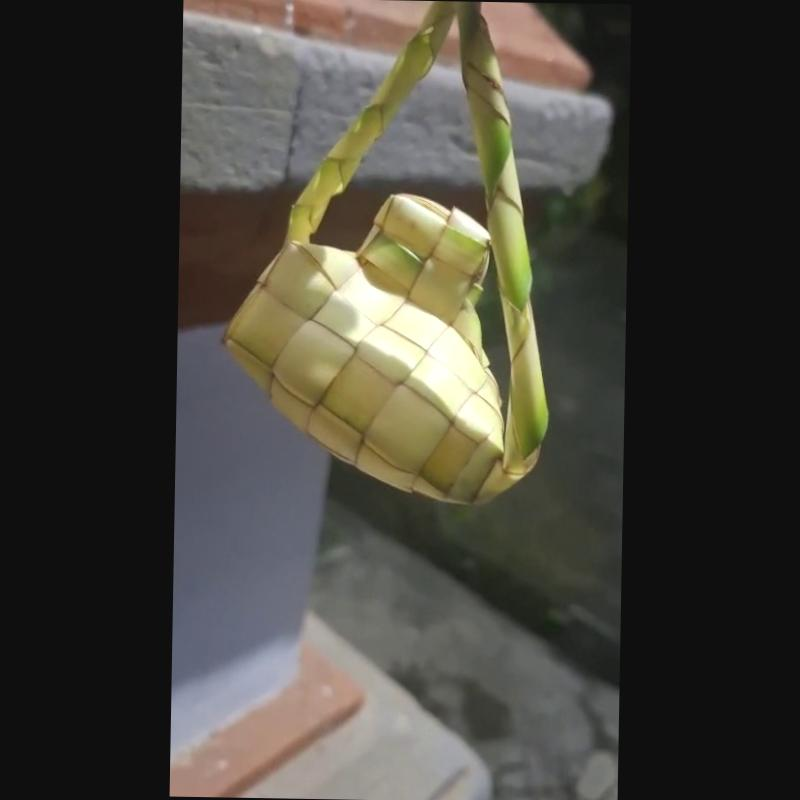Tipat Gong: (222, 1, 547, 504)
